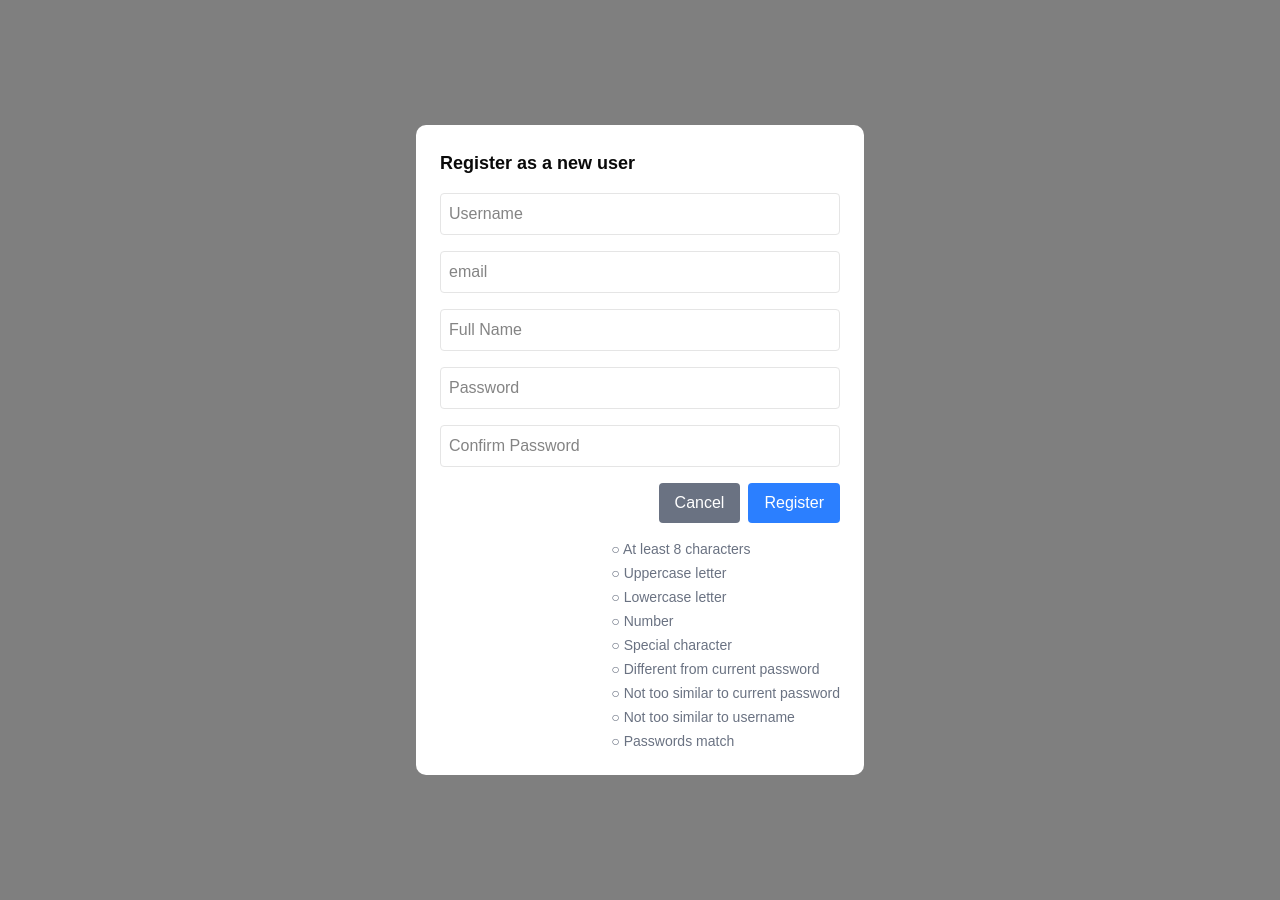
Test case: RegisterForm › shows validation errors when fields are empty and submitted
This screenshot has width=1280, height=900.
Click the button "Register": click(794, 503) x1=748 y1=483 x2=840 y2=523
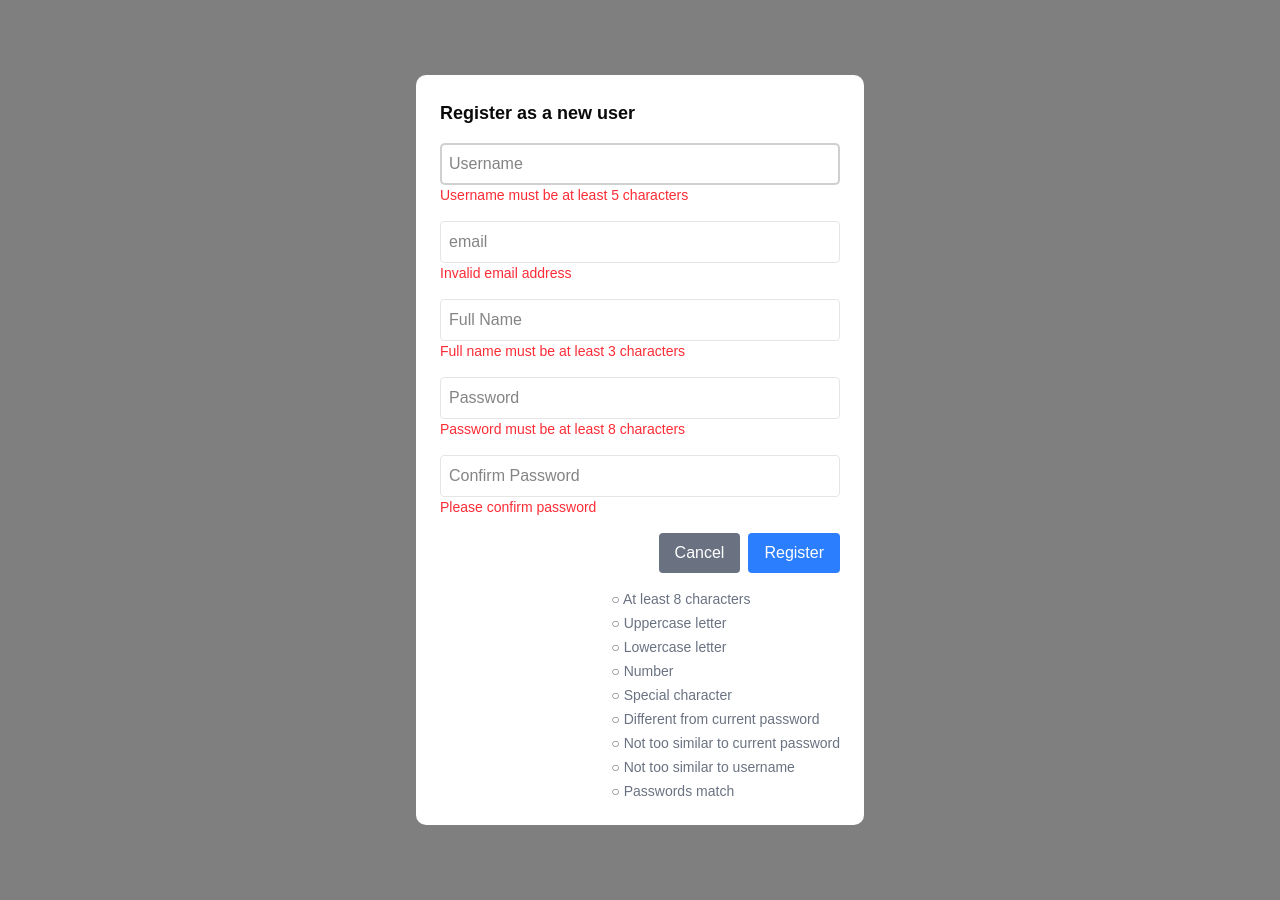
Expected: the text "Username must be at least 5 characters" is shown, x1=440 y1=187 x2=688 y2=203
Expected: the text "Invalid email address" is shown, x1=440 y1=265 x2=572 y2=281
Expected: the text "Full name must be at least 3 characters" is shown, x1=440 y1=343 x2=685 y2=359
